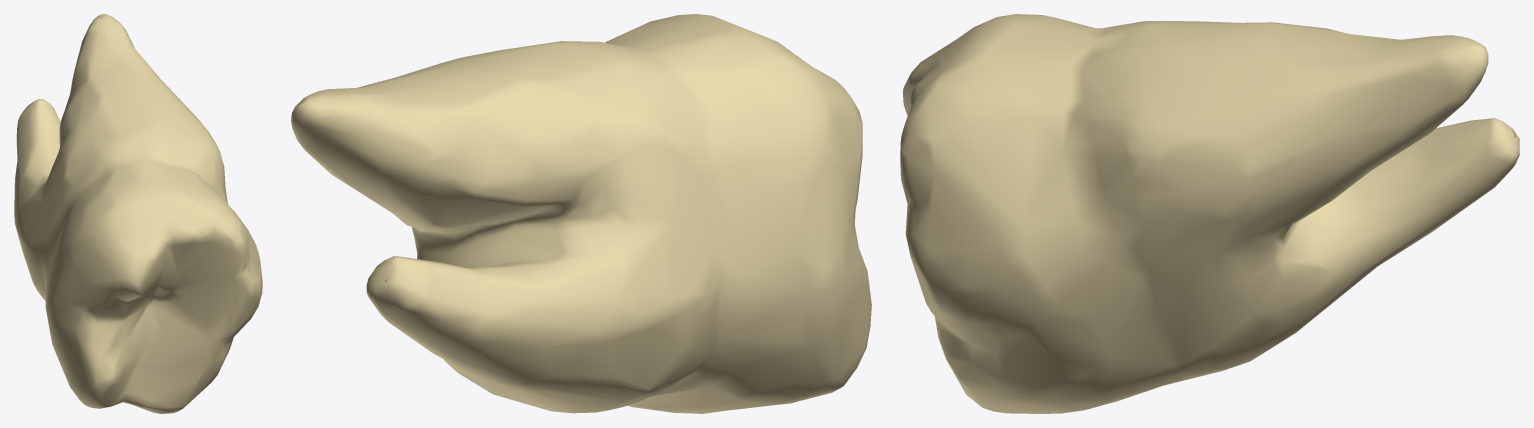
The picture shows the model from 3 angles, left to right: view 1: azimuth 30°, elevation 25°; view 2: azimuth 150°, elevation 25°; view 3: azimuth 270°, elevation 25°; orthographic projection. The views are drawn at different scales.
Parts seen in each view (by area): view 1: 左侧下颌第一磨牙; view 2: 左侧下颌第一磨牙; view 3: 左侧下颌第一磨牙.
Boxes of the visible parts, left/top/right/bottom form: 左侧下颌第一磨牙: left=14, top=14, right=262, bottom=413; 左侧下颌第一磨牙: left=291, top=14, right=871, bottom=413; 左侧下颌第一磨牙: left=900, top=14, right=1519, bottom=413.
Size of the model in its own units: 0.0178 by 0.0217 by 0.0284.
